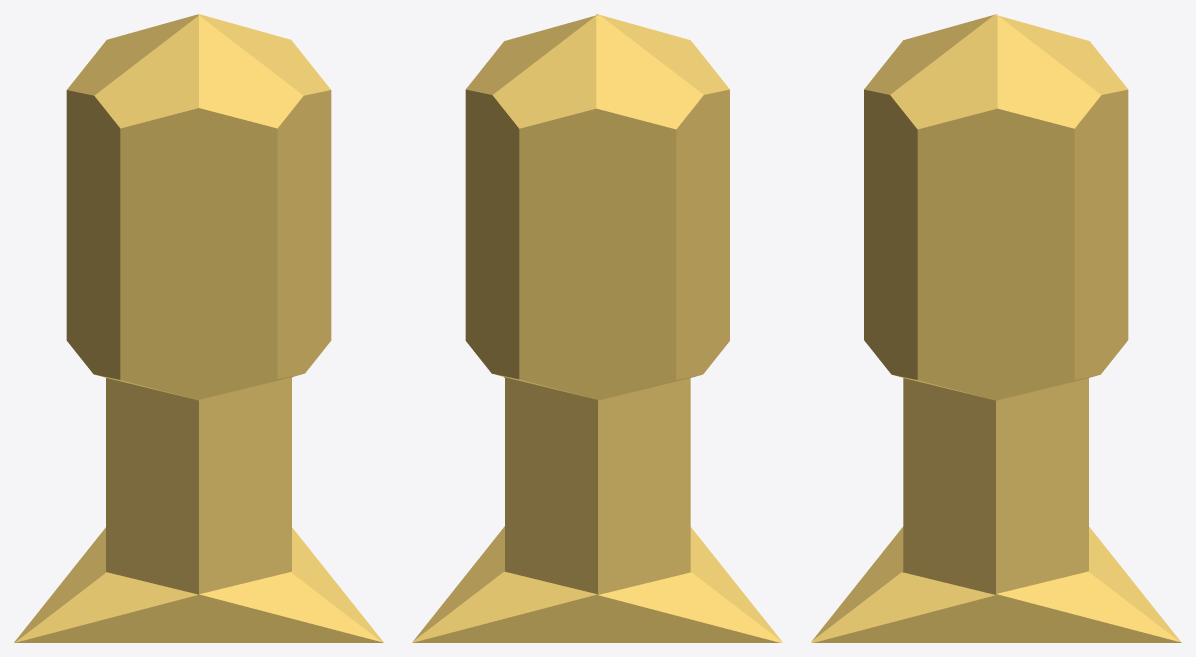
The model's file is Fate Game Piece V4 (1).gltf.
3 views of the same model, side by side, from view 1: azimuth 30°, elevation 25°; view 2: azimuth 150°, elevation 25°; view 3: azimuth 270°, elevation 25° (orthographic).
Visible parts, largest first — view 1: Part 1; view 2: Part 1; view 3: Part 1.
Boxes of the visible parts, x1,y1,x2,y2 form: Part 1: (14,14,383,642); Part 1: (412,14,782,642); Part 1: (811,14,1181,642).
Size of the model in its own units: 0.019 by 0.0381 by 0.022.
